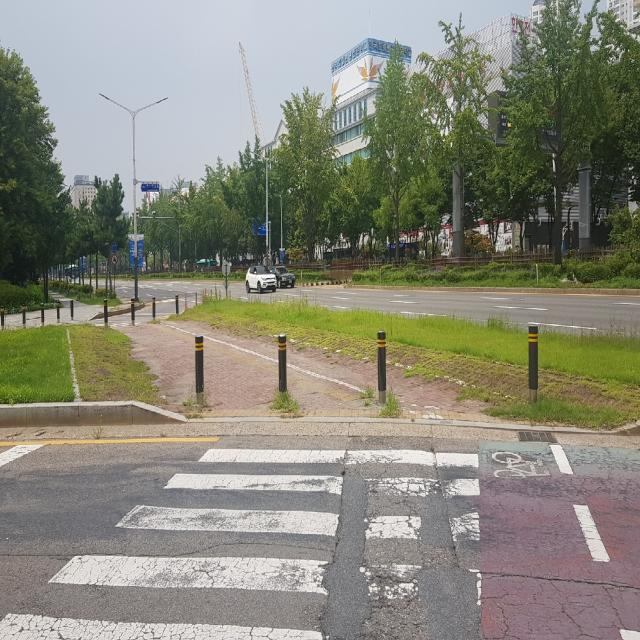횡단보도: (0, 443, 484, 640)
